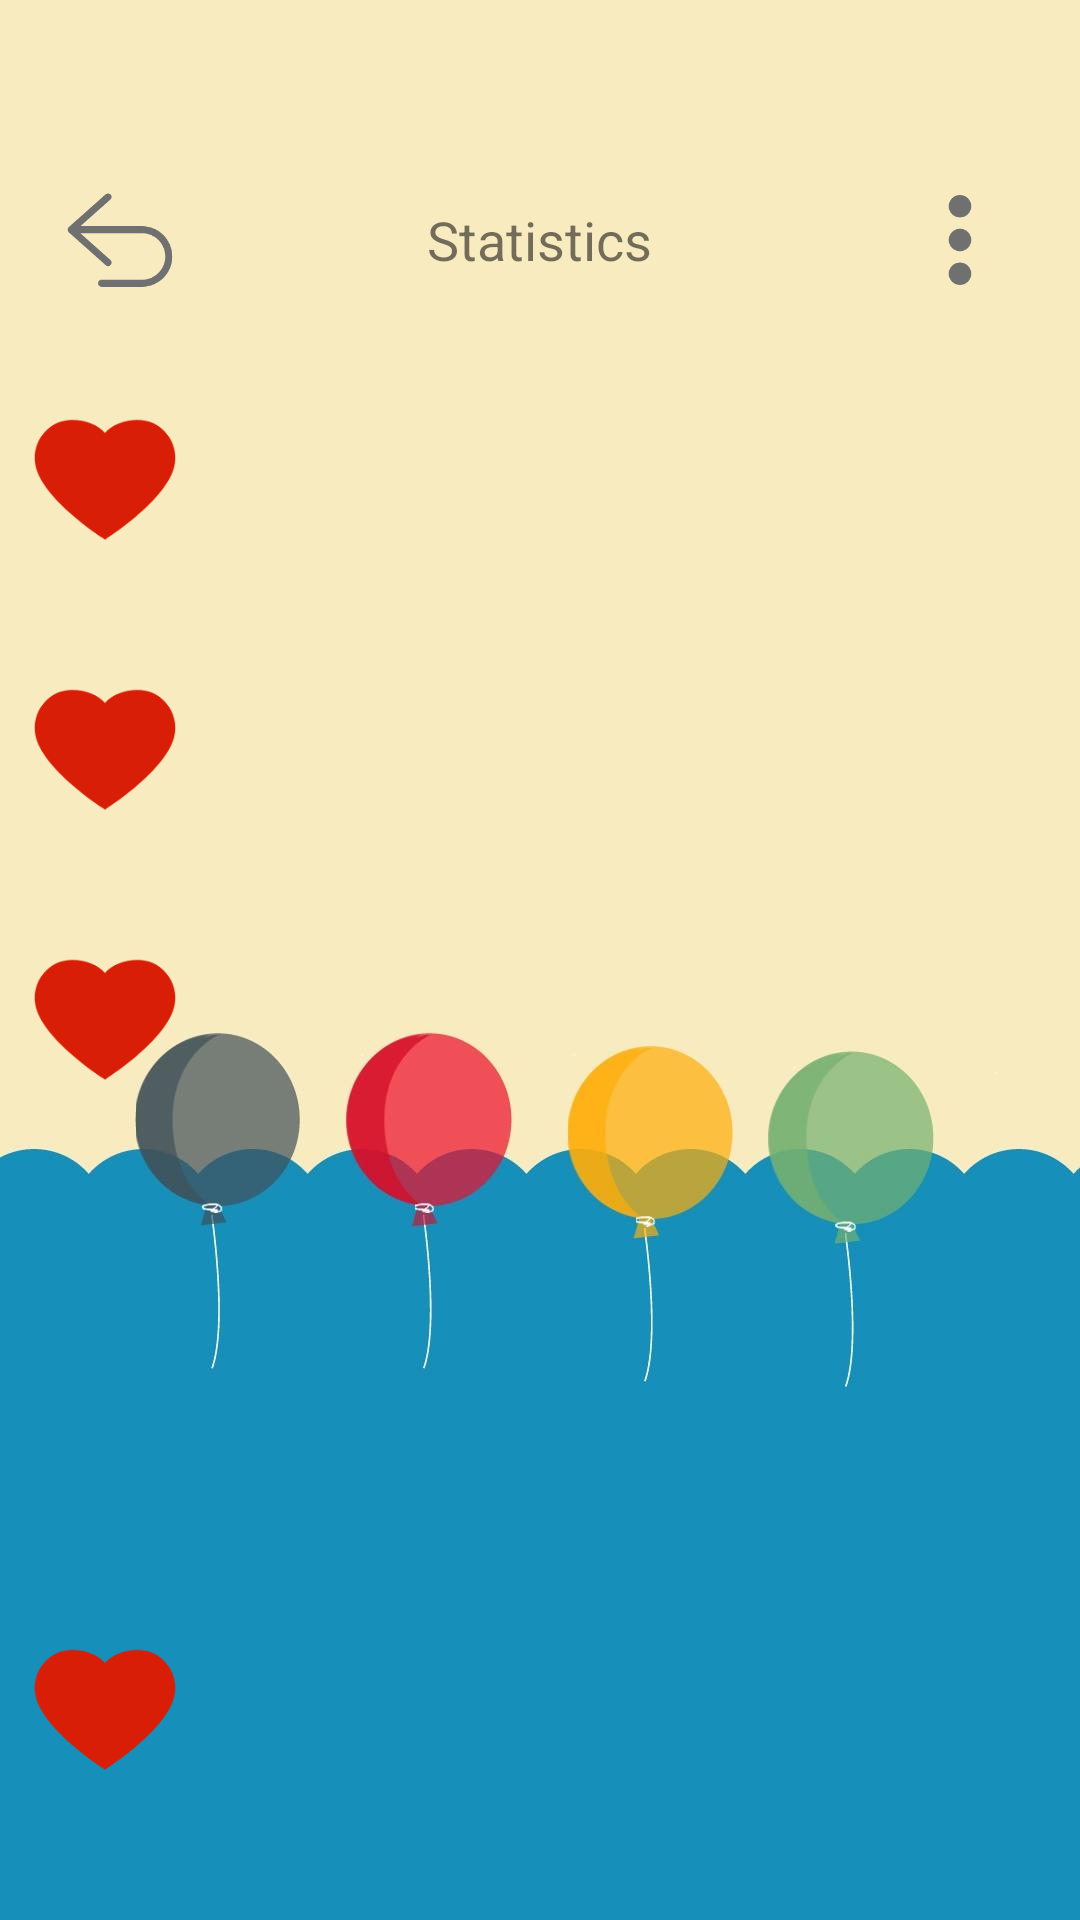

Icon bounding boxes for this 1080×1920 phone screenshot, format rect(x1, y1, x2, y2):
back view style: rect(67, 193, 172, 287)
more view style: rect(948, 195, 972, 285)
